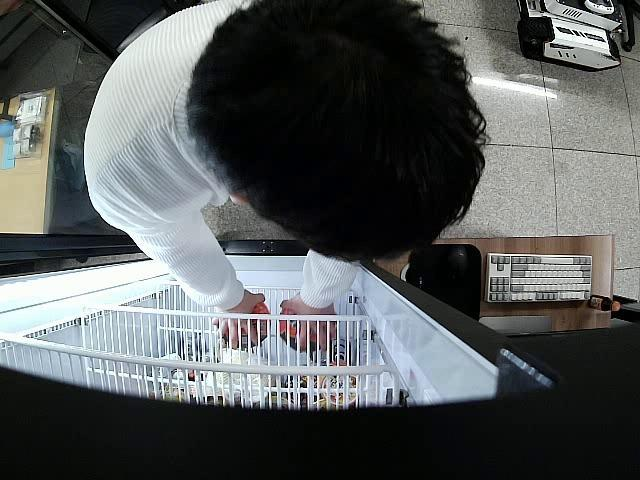01_ShinRamen_L: (223, 302, 271, 348), (279, 311, 327, 352)
